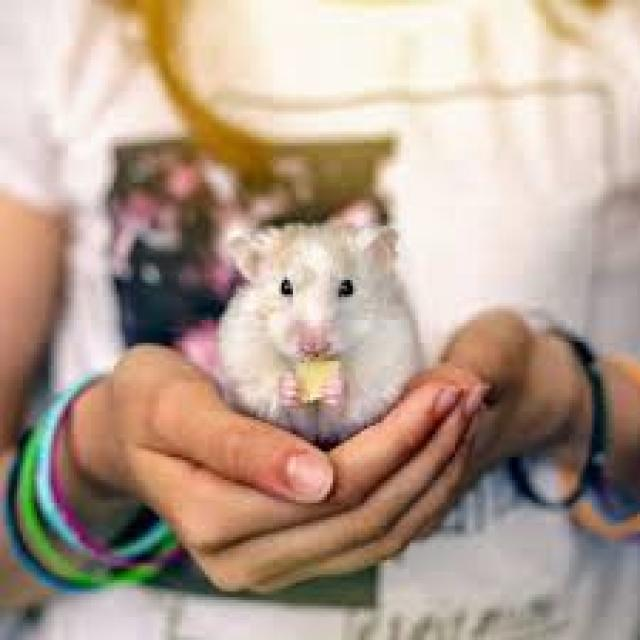hamster: (216, 223, 415, 437)
